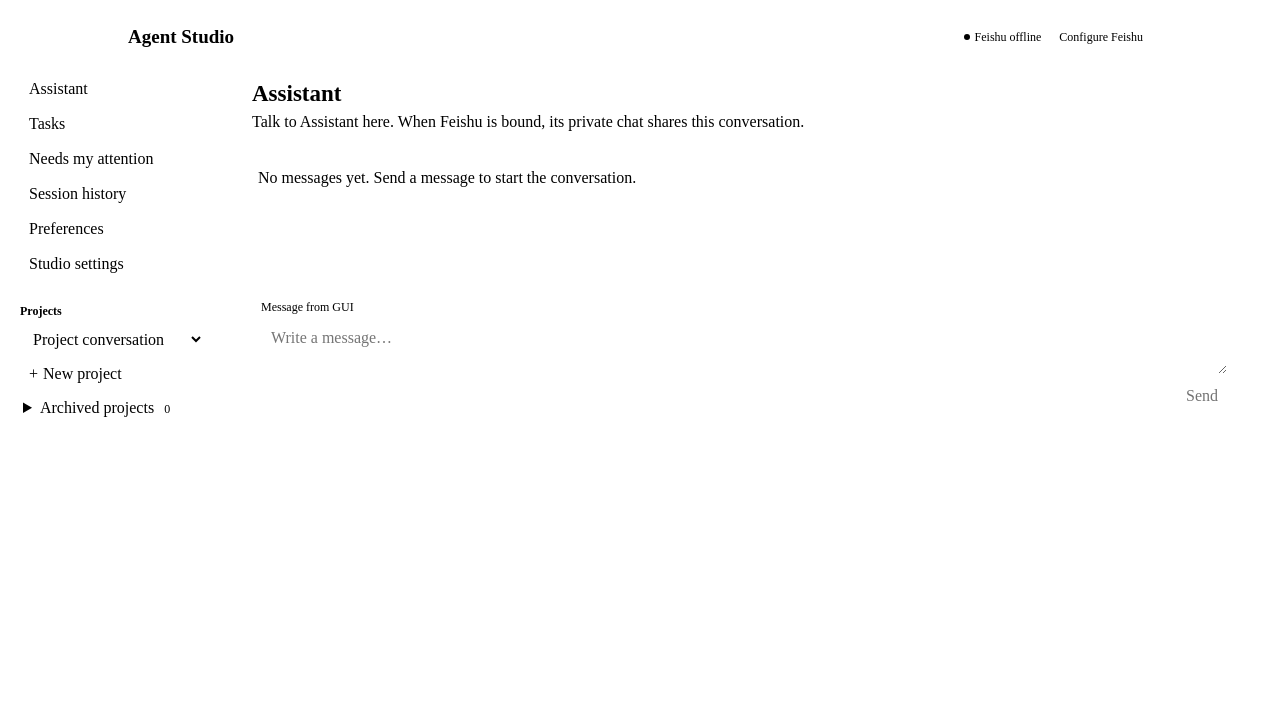
Test: preserves model edits on a revision conflict, rebases explicitly, and sends null for Host defaults
Later steps or results of the test are not shown.
Step 1. Click the button "Studio settings" → (112, 264), box [20,249,204,279]
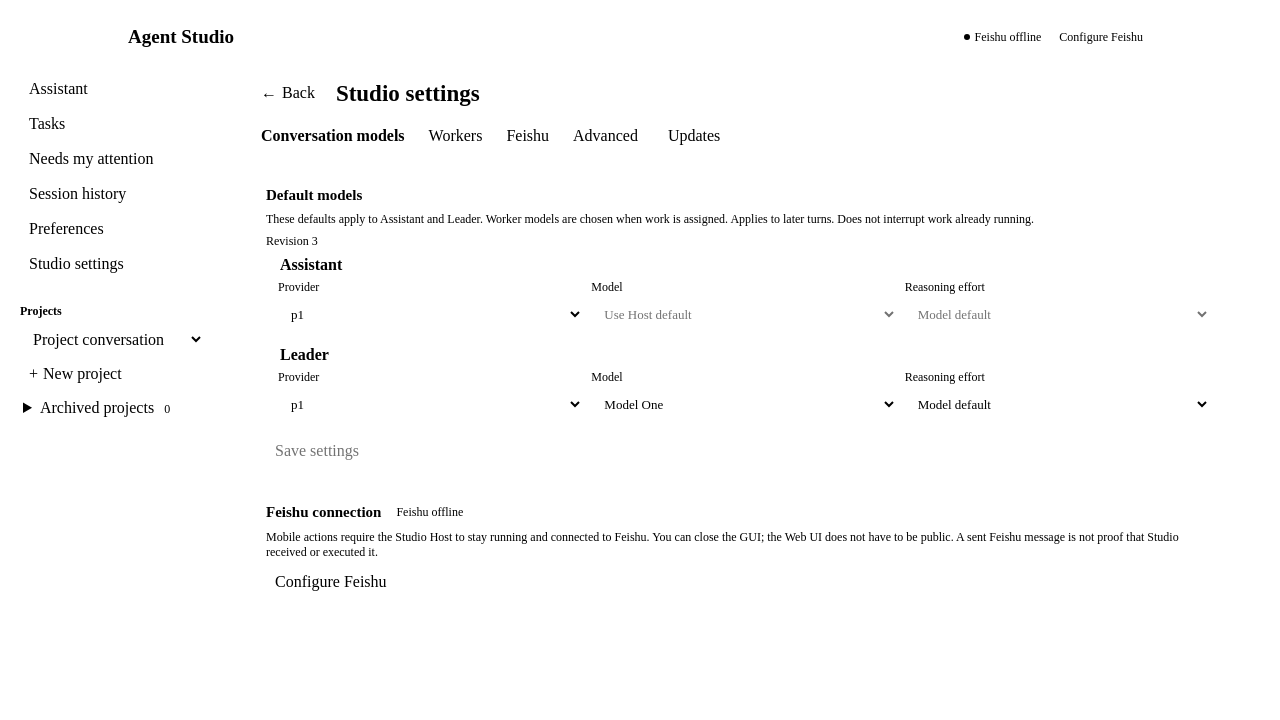
Result: the text "Mobile actions require the Studio Host to stay running and connected to Feishu. You can close the GUI; the Web UI does not have to be public. A sent Feishu mess" is shown at [266,530,1179,558]
